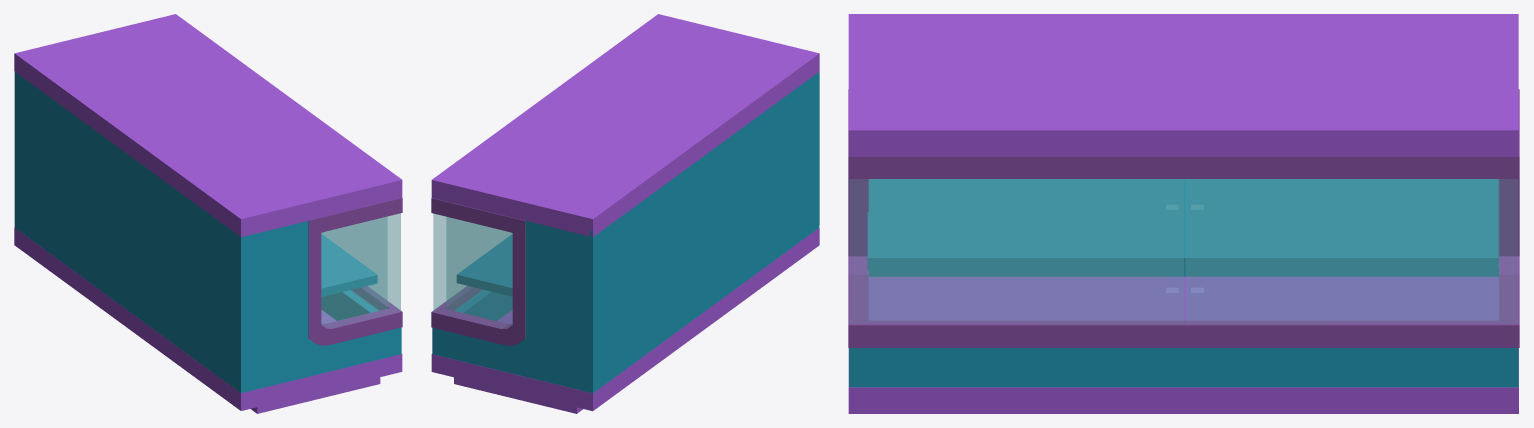
File: dresser_tier17.fbx
3 renders of one model, left to right at view 1: azimuth 30°, elevation 25°; view 2: azimuth 150°, elevation 25°; view 3: azimuth 270°, elevation 25°, orthographic. The views are drawn at different scales.
Parts seen in each view (by area): view 1: Cube.022, Cube.021, Cube.007, Cube.011, Cube.005, Cube.006, Cube.010; view 2: Cube.022, Cube.021, Cube.001, Cube.011, Cube.005, Cube.006, Cube.010; view 3: Cube.021, Cube.006, Cube.007, Cube.001, Cube.011, Cube.005, Cube.022.
Boxes of the visible parts, x1,y1,x2,y2 form: Cube.022: (14,72,401,393); Cube.021: (14,14,402,237); Cube.007: (321,213,400,328); Cube.011: (14,227,402,410); Cube.005: (308,198,402,345); Cube.006: (321,234,377,296); Cube.010: (251,377,380,413); Cube.022: (432,71,819,393); Cube.021: (431,14,819,236); Cube.001: (433,214,512,328); Cube.011: (431,228,819,411); Cube.005: (431,198,525,345); Cube.006: (456,234,512,296); Cube.010: (454,377,582,413); Cube.021: (848,14,1518,156); Cube.006: (867,179,1498,270); Cube.007: (849,179,1184,324); Cube.001: (1185,179,1517,324); Cube.011: (848,276,1518,413); Cube.005: (848,89,1519,347); Cube.022: (849,179,1518,387).
Size of the model in its own units: 89.26 by 106 by 218.
